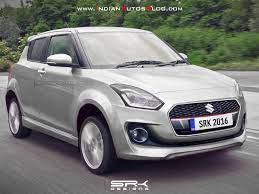Hatchback: (3, 25, 248, 175)
